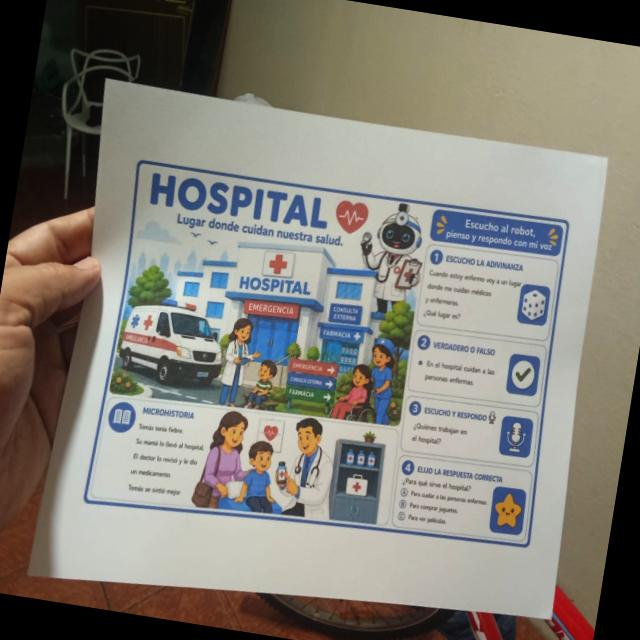hospital: (79, 148, 584, 577)
